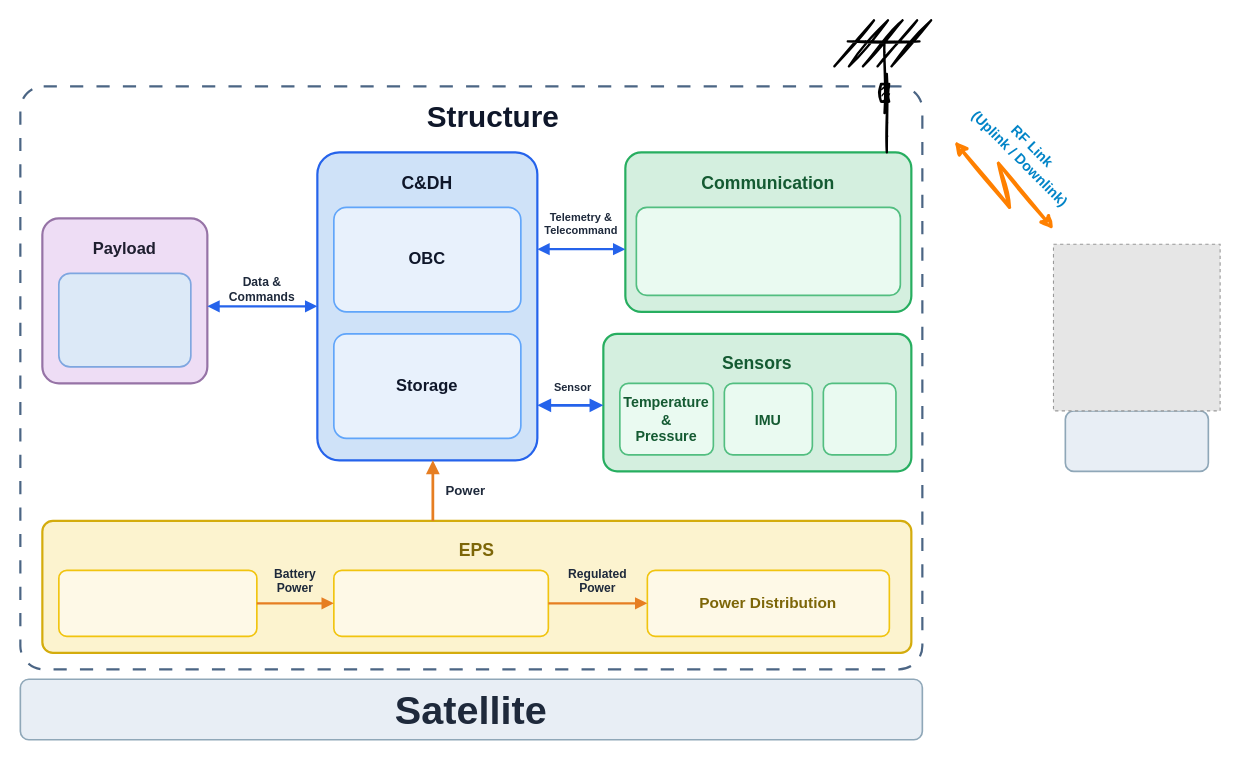
Image size: 1240x759. Some labels were removed from this diagram. Grey dashed boxes stand in for pictures. Here are the shapes that lost their labels. From the top down, the centre of each, then its label:
At (768,251): "LoRa Transceiver".
At (124,319): "Camera".
At (859,418): "GNSS".
At (1136,441): "Ground Station".
At (157,603): "Battery".
At (441,603): "DC-DC (Buck / Boost)".
